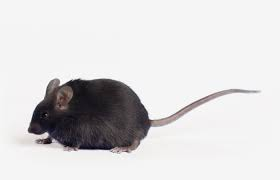mice: (25, 77, 263, 154)
